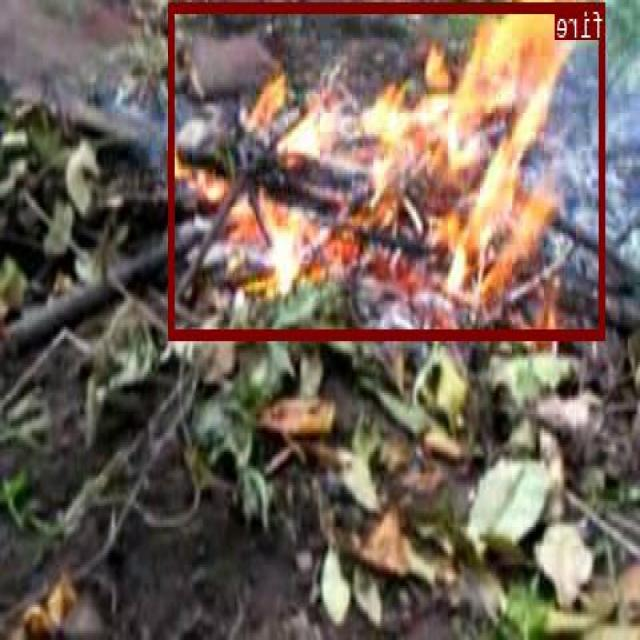fire: (170, 2, 606, 338)
